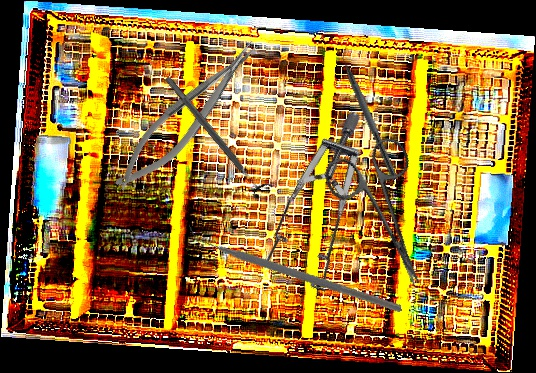Chopper: (188, 178, 402, 354), (334, 43, 407, 181)
Fixation Ring: (158, 69, 274, 202)
Iris Scissors: (319, 133, 454, 303)
Needle Holder: (102, 32, 274, 201)
Speculum: (217, 107, 433, 315)
